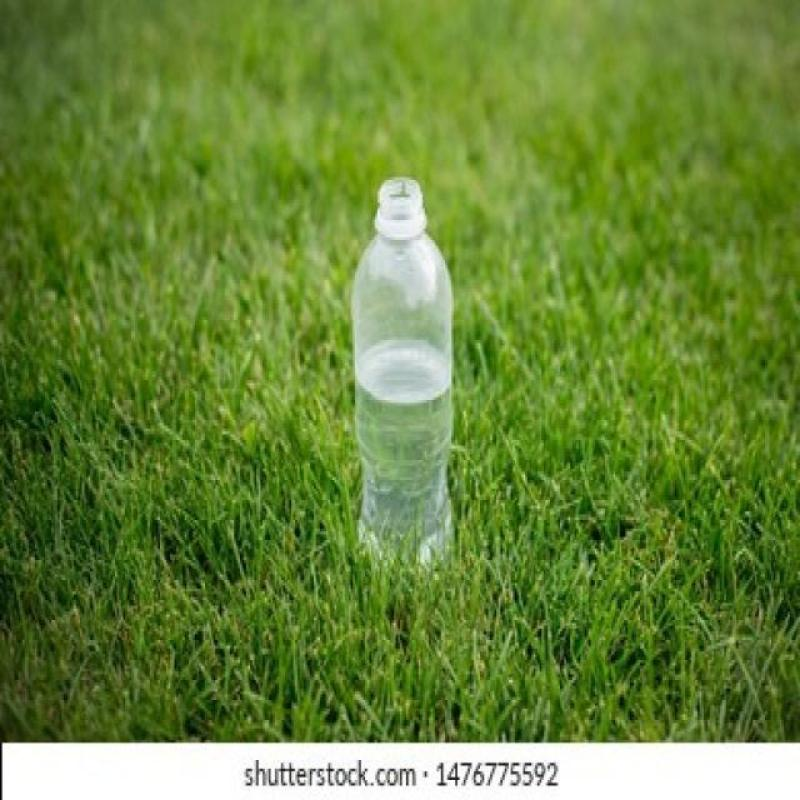botella: (348, 177, 456, 572)
